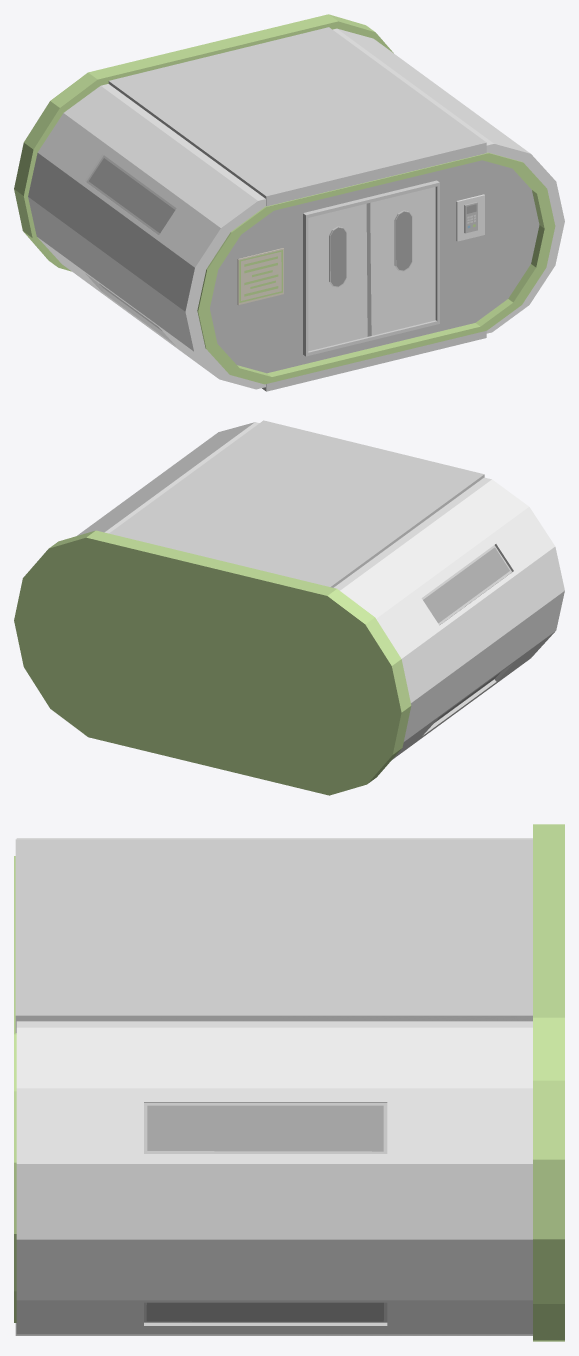
3 views of the same model, one above another, from view 1: azimuth 30°, elevation 25°; view 2: azimuth 150°, elevation 25°; view 3: azimuth 270°, elevation 25° (orthographic). The views are drawn at different scales.
Visible parts, largest first — view 1: Cylinder_8; view 2: Cylinder_8; view 3: Cylinder_8.
Boxes of the visible parts, box(x1,y1,x2,y2) form: Cylinder_8: box(14, 14, 564, 391); Cylinder_8: box(14, 420, 564, 795); Cylinder_8: box(14, 824, 564, 1341).
Size of the model in its own units: 601 by 296 by 452.
